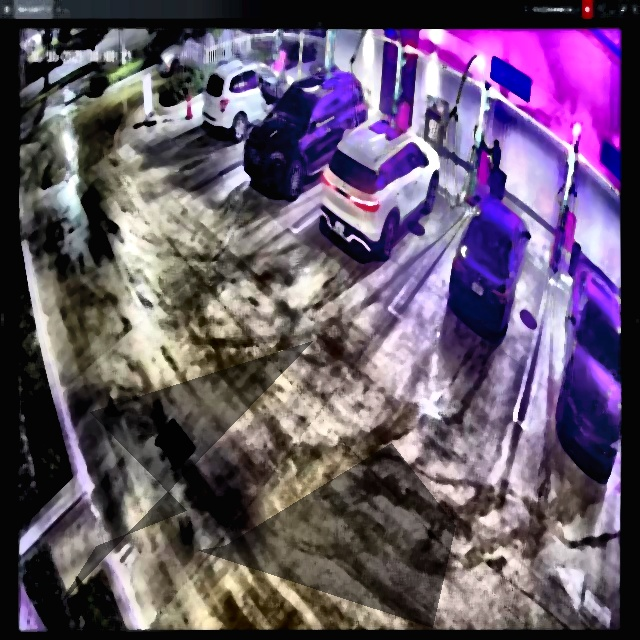Car: (318, 119, 440, 260), (248, 66, 368, 196), (450, 197, 530, 338)
